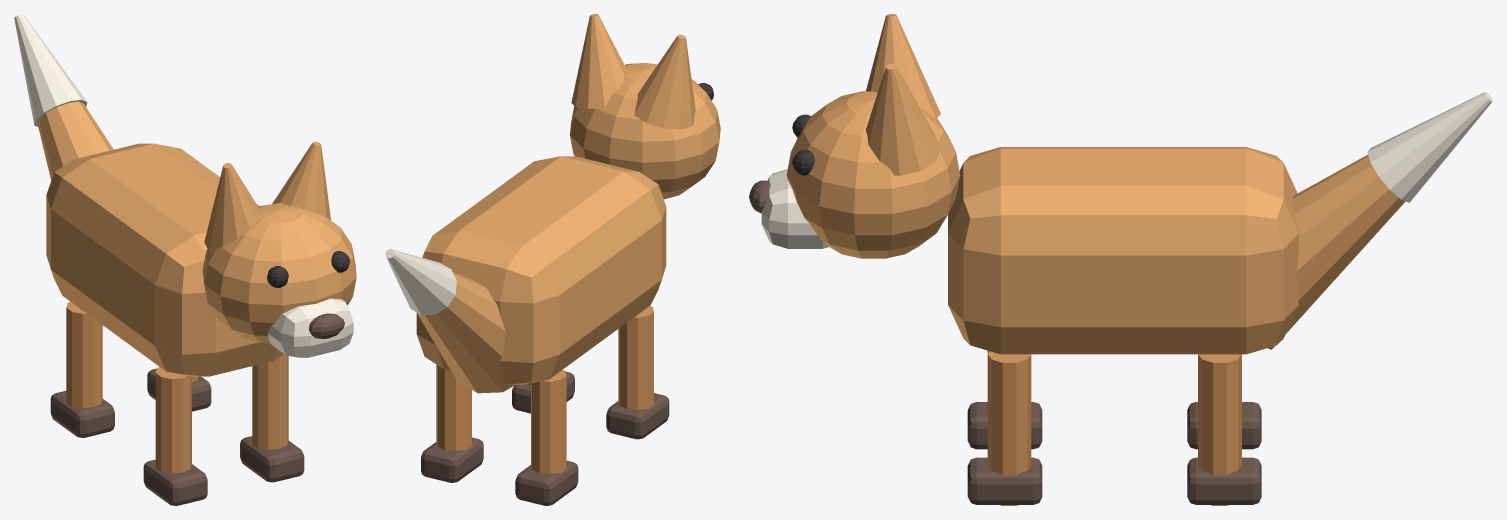
The model's file is master.glb.
The picture shows the model from 3 angles, left to right: view 1: azimuth 30°, elevation 25°; view 2: azimuth 150°, elevation 25°; view 3: azimuth 270°, elevation 25°; orthographic projection. The views are drawn at different scales.
Parts seen in each view (by area): view 1: body, head, leg_-1_-1, leg_-1_1, tail_tip, tail_base, leg_1_-1, muzzle, ear_l, ear_r, paw_1_-1, paw_-1_-1 (+4 smaller); view 2: body, head, tail_base, ear_l, leg_-1_1, leg_-1_-1, ear_r, tail_tip, leg_1_1, paw_-1_1, paw_1_1, paw_-1_-1 (+1 smaller); view 3: body, head, tail_base, tail_tip, leg_1_-1, leg_1_1, ear_r, paw_1_-1, ear_l, muzzle, paw_1_1, paw_-1_-1 (+1 smaller).
Boxes of the visible parts, x1,y1,x2,y2 form: body: (46,143,283,376); head: (202,203,356,343); leg_-1_-1: (155,367,191,473); leg_-1_1: (66,301,102,408); tail_tip: (14,14,87,126); tail_base: (37,101,113,180); leg_1_-1: (252,354,288,449); muzzle: (268,298,353,357); ear_l: (204,163,261,253); ear_r: (272,141,330,220); paw_1_-1: (240,436,304,482); paw_-1_-1: (143,459,207,505); body: (416,156,666,384); head: (570,63,720,199); tail_base: (417,272,515,393); ear_l: (634,34,695,129); leg_-1_1: (531,369,566,473); leg_-1_-1: (618,306,653,409); ear_r: (571,14,627,108); tail_tip: (385,249,456,315); leg_1_1: (436,364,471,450); paw_-1_1: (515,460,578,505); paw_1_1: (421,437,483,482); paw_-1_-1: (606,393,669,439); body: (948,147,1298,354); head: (786,91,960,258); tail_base: (1268,154,1405,349); tail_tip: (1367,92,1492,202); leg_1_-1: (987,351,1031,505); leg_1_1: (1198,354,1241,505); ear_r: (866,63,940,175); paw_1_-1: (967,457,1042,504); ear_l: (866,14,940,118); muzzle: (761,169,829,248); paw_1_1: (1187,457,1261,504); paw_-1_-1: (967,402,1042,449).
Bounding box in the file's own units: 0.44 × 1.08 × 1.7.
